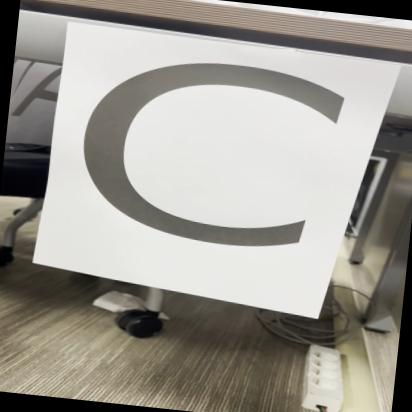seat: (54, 24, 390, 343)
